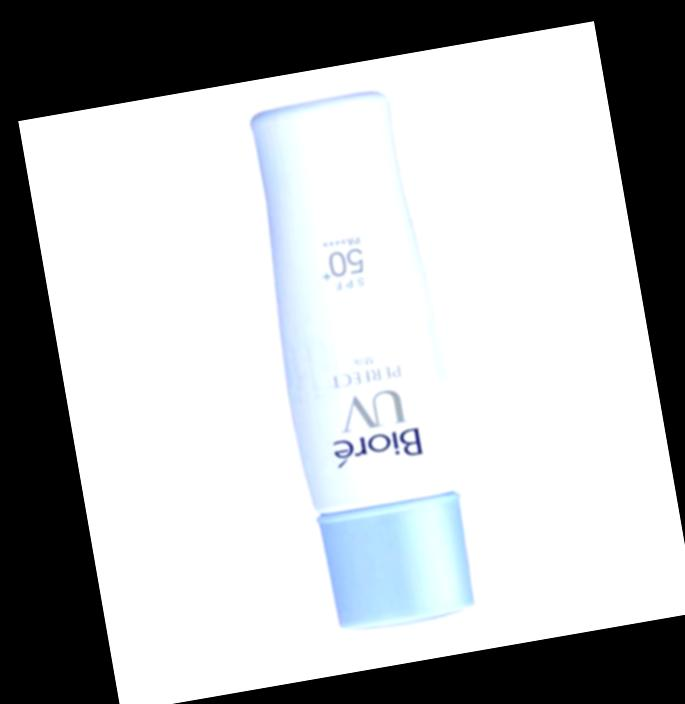cosmetic: (241, 91, 482, 629)
